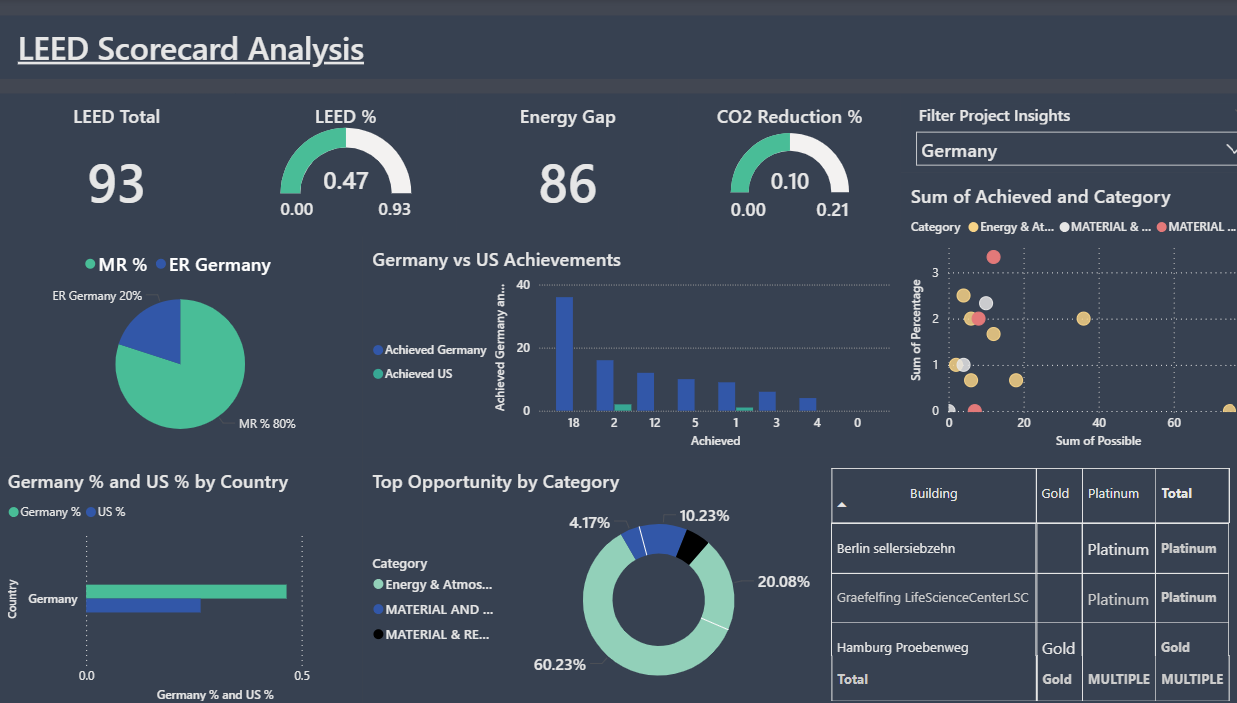

Layout of this report page (visuals, bound fields, positions):
{"tool":"powerbi","page":{"name":"Page 1","canvas":[1280,720],"ordinal":0},"visuals":[{"type":"card","title":"LEED Total","fields":{"Values":["All_scorecards.LEED Total"]},"box":[0,96,240,144],"z":0},{"type":"textbox","box":[0,16,1280,64],"z":1000},{"type":"pivotTable","fields":{"Rows":["All_scorecards.Building"],"Values":["All_scorecards.LEED Level"],"Columns":["All_scorecards.Level"]},"box":[832,464,448,256],"z":2000},{"type":"gauge","fields":{"Y":["All_scorecards.LEED %"]},"box":[240,96,224,144],"z":3000},{"type":"card","title":"Energy Gap","fields":{"Values":["All_scorecards.Energy Gap"]},"box":[464,96,224,144],"z":4000},{"type":"gauge","fields":{"Y":["All_scorecards.CO2 Reduction %"]},"box":[688,96,224,144],"z":5000},{"type":"pieChart","fields":{"Y":["All_scorecards.MR %","All_scorecards.ER Germany"]},"box":[0,240,368,224],"z":6000},{"type":"clusteredBarChart","fields":{"Category":["All_scorecards.Country"],"Y":["All_scorecards.Germany %","All_scorecards.US %"]},"box":[0,464,368,256],"z":7000},{"type":"scatterChart","title":"Sum of Achieved and Category","fields":{"X":["Sum(All_scorecards.Possible)"],"Y":["Sum(All_scorecards.Percentage)"],"Series":["All_scorecards.Category"],"Category":["All_scorecards.Achieved"]},"box":[912,176,368,288],"z":8000},{"type":"lineClusteredColumnComboChart","title":"Germany vs US Achievements","fields":{"Y":["All_scorecards.Achieved Germany","All_scorecards.Achieved US"],"Category":["All_scorecards.Achieved"]},"box":[368,240,544,224],"z":9000},{"type":"slicer","fields":{"Values":["All_scorecards.type_cleaned","All_scorecards.Country","All_scorecards.Level","All_scorecards.Category"]},"box":[912,96,368,80],"z":10000},{"type":"donutChart","title":"Top Opportunity by Category","fields":{"Y":["All_scorecards.Possible US","All_scorecards.Possible Germany"],"Category":["All_scorecards.Category"]},"box":[368,464,464,256],"z":11000}]}

Visuals, with their boxes in screenshot pixels (x1, y1, x2, y2), scaled from the page's 1280x720 canvas onto the 1237x703 screenshot:
"LEED Total" card: Rect(0, 94, 232, 234)
textbox: Rect(0, 16, 1236, 78)
pivotTable - All_scorecards.Building x All_scorecards.LEED Level: Rect(804, 453, 1236, 702)
gauge - All_scorecards.LEED %: Rect(232, 94, 448, 234)
"Energy Gap" card: Rect(448, 94, 665, 234)
gauge - All_scorecards.CO2 Reduction %: Rect(665, 94, 881, 234)
pieChart - All_scorecards.MR % x All_scorecards.ER Germany: Rect(0, 234, 356, 453)
clusteredBarChart - All_scorecards.Country x All_scorecards.Germany %: Rect(0, 453, 356, 702)
"Sum of Achieved and Category" scatterChart: Rect(881, 172, 1236, 453)
"Germany vs US Achievements" lineClusteredColumnComboChart: Rect(356, 234, 881, 453)
slicer - All_scorecards.type_cleaned x All_scorecards.Country: Rect(881, 94, 1236, 172)
"Top Opportunity by Category" donutChart: Rect(356, 453, 804, 702)
